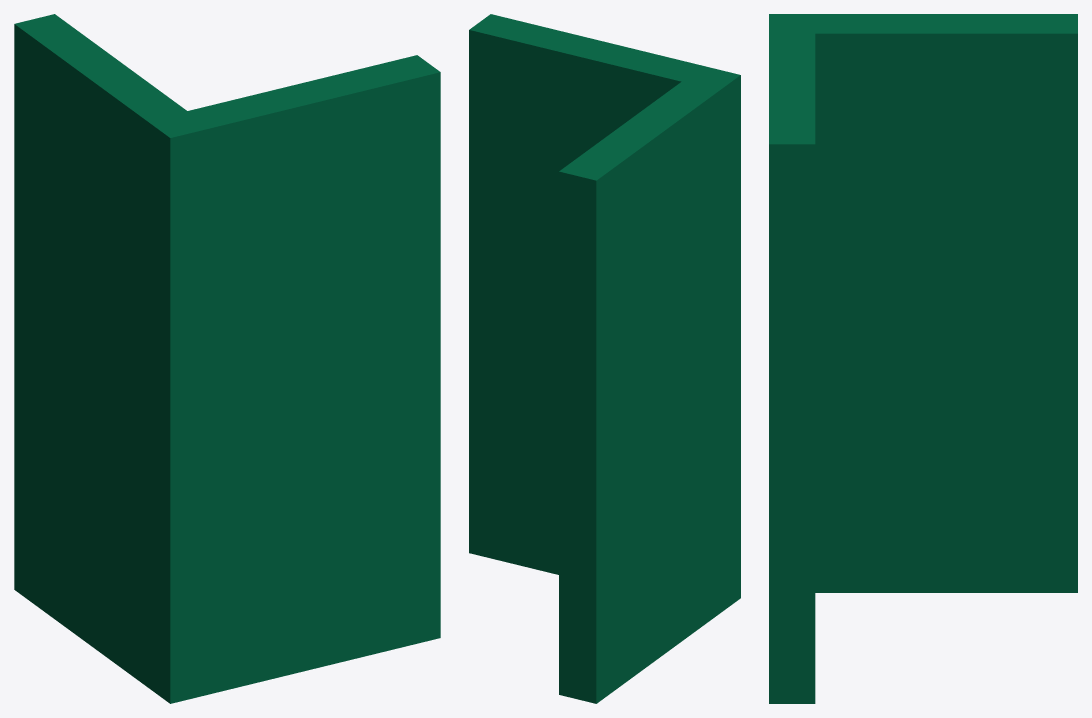
The model's file is GreenCorner.glb.
3 renders of one model, left to right at view 1: azimuth 30°, elevation 25°; view 2: azimuth 150°, elevation 25°; view 3: azimuth 270°, elevation 25°, orthographic. The views are drawn at different scales.
Parts seen in each view (by area): view 1: wall_plain_corner_green; view 2: wall_plain_corner_green; view 3: wall_plain_corner_green.
Boxes of the visible parts, <box> form: wall_plain_corner_green: <box>14,14,440,703</box>; wall_plain_corner_green: <box>469,14,740,703</box>; wall_plain_corner_green: <box>769,14,1077,703</box>.
Size of what is drawn, in the model's own units: 2 by 4 by 2.
1 material, 1 textured.
